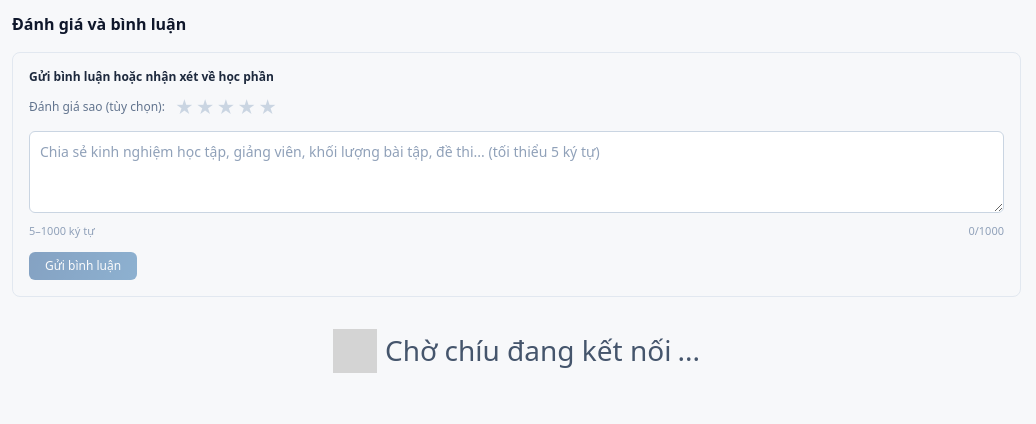
Test case: ModuleReviews — tên hiển thị của bình luận › báo tên sẽ hiện khi đã có biệt danh
Click the button "Gửi bình luận".
click(83, 266)  # box [29,252,137,280]
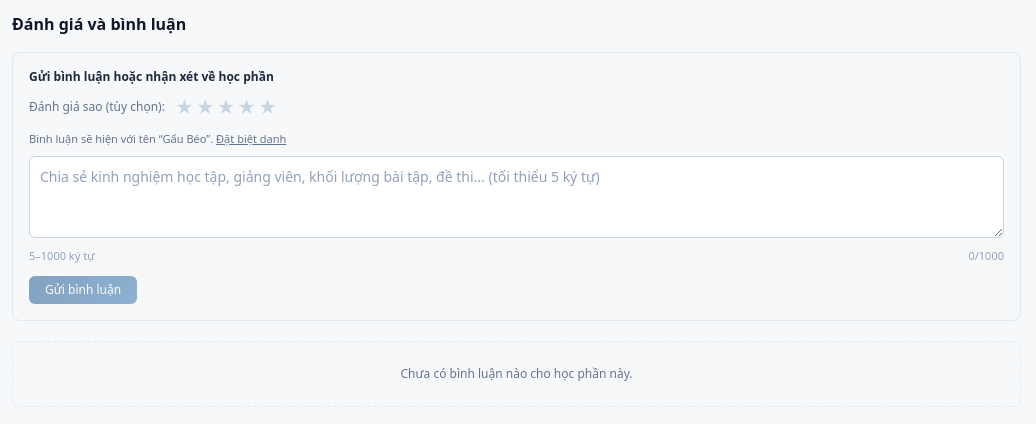
Expected: the element with test id "comment-posting-as" shows "Bình luận sẽ hiện với tên “Gấu Béo”.", [29,131,213,146]
